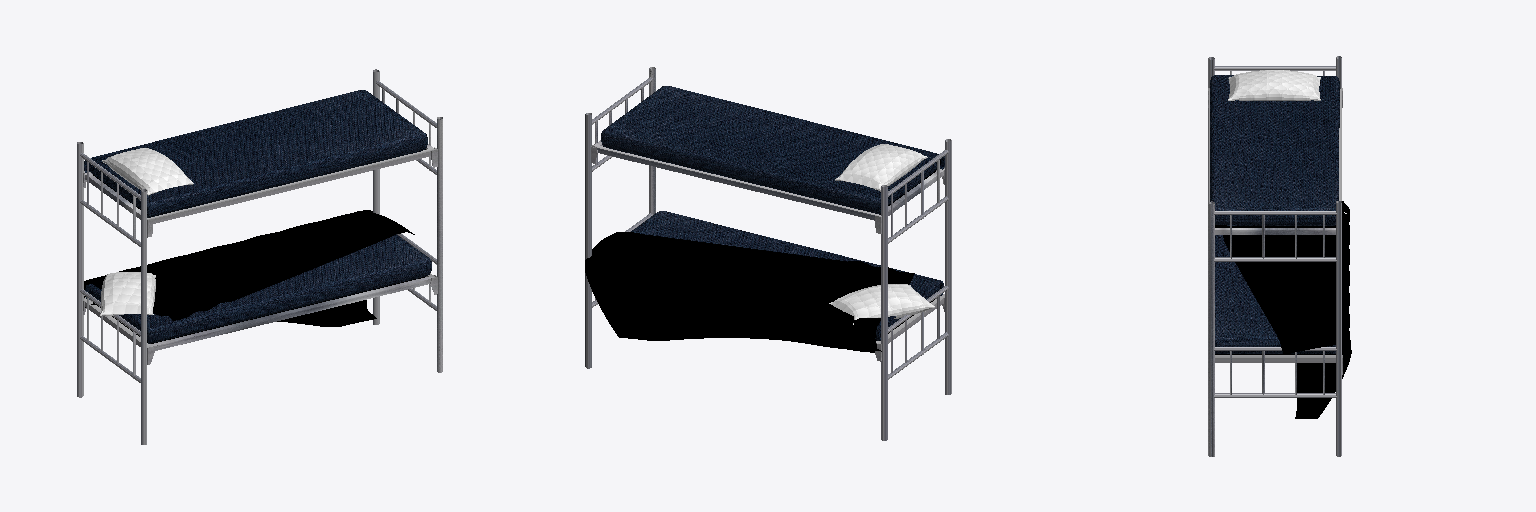
The picture shows the model from 3 angles: view 1: azimuth 30°, elevation 25°; view 2: azimuth 150°, elevation 25°; view 3: azimuth 270°, elevation 25°; orthographic projection.
Visible parts, largest first — view 1: CASA:Cama:Planket002 CASA:group3, CASA:group3 CASA:Cama:pPlane9, CASA:group3 CASA:Cama:group, CASA:group3 CASA:Cama:polySurface15, CASA:group3 CASA:Cama:pasted__polySurface15group4, CASA:group3 CASA:Cama:Bedframe001, CASA:group3 CASA:Cama:Bedframes002, CASA:group3 CASA:Cama:Pillow002, CASA:group3 CASA:Cama:Pillow001; view 2: CASA:group3 CASA:Cama:pPlane9, CASA:Cama:Planket002 CASA:group3, CASA:group3 CASA:Cama:polySurface15, CASA:group3 CASA:Cama:group, CASA:group3 CASA:Cama:pasted__polySurface15group4, CASA:group3 CASA:Cama:Bedframes002, CASA:group3 CASA:Cama:Pillow002, CASA:group3 CASA:Cama:Pillow001, CASA:group3 CASA:Cama:Bedframe001; view 3: CASA:Cama:Planket002 CASA:group3, CASA:group3 CASA:Cama:pPlane9, CASA:group3 CASA:Cama:pasted__polySurface15group4, CASA:group3 CASA:Cama:group, CASA:group3 CASA:Cama:Pillow002, CASA:group3 CASA:Cama:Bedframes002, CASA:group3 CASA:Cama:polySurface15, CASA:group3 CASA:Cama:Bedframe001.
Part boxes in pixels (bbox=[...]): CASA:Cama:Planket002 CASA:group3: bbox=[84, 90, 427, 217]; CASA:group3 CASA:Cama:pPlane9: bbox=[84, 210, 414, 326]; CASA:group3 CASA:Cama:group: bbox=[85, 234, 431, 343]; CASA:group3 CASA:Cama:polySurface15: bbox=[77, 142, 146, 444]; CASA:group3 CASA:Cama:pasted__polySurface15group4: bbox=[373, 69, 442, 372]; CASA:group3 CASA:Cama:Bedframe001: bbox=[83, 273, 437, 364]; CASA:group3 CASA:Cama:Bedframes002: bbox=[83, 144, 437, 237]; CASA:group3 CASA:Cama:Pillow002: bbox=[102, 148, 193, 195]; CASA:group3 CASA:Cama:Pillow001: bbox=[100, 272, 155, 316]; CASA:group3 CASA:Cama:pPlane9: bbox=[585, 232, 914, 352]; CASA:Cama:Planket002 CASA:group3: bbox=[601, 86, 944, 214]; CASA:group3 CASA:Cama:polySurface15: bbox=[881, 139, 951, 440]; CASA:group3 CASA:Cama:group: bbox=[631, 211, 943, 340]; CASA:group3 CASA:Cama:pasted__polySurface15group4: bbox=[585, 67, 655, 368]; CASA:group3 CASA:Cama:Bedframes002: bbox=[591, 140, 944, 233]; CASA:group3 CASA:Cama:Pillow002: bbox=[835, 144, 927, 191]; CASA:group3 CASA:Cama:Pillow001: bbox=[829, 284, 934, 324]; CASA:group3 CASA:Cama:Bedframe001: bbox=[591, 289, 944, 361]; CASA:Cama:Planket002 CASA:group3: bbox=[1210, 75, 1339, 225]; CASA:group3 CASA:Cama:pPlane9: bbox=[1223, 201, 1351, 418]; CASA:group3 CASA:Cama:pasted__polySurface15group4: bbox=[1208, 201, 1341, 456]; CASA:group3 CASA:Cama:group: bbox=[1215, 235, 1335, 353]; CASA:group3 CASA:Cama:Pillow002: bbox=[1228, 70, 1320, 100]; CASA:group3 CASA:Cama:Bedframes002: bbox=[1208, 88, 1342, 234]; CASA:group3 CASA:Cama:polySurface15: bbox=[1208, 56, 1341, 202]; CASA:group3 CASA:Cama:Bedframe001: bbox=[1215, 355, 1342, 374].
Size of the model in its own units: 7.09 by 5.32 by 2.73.
Materials: 10 (3 with a texture image).